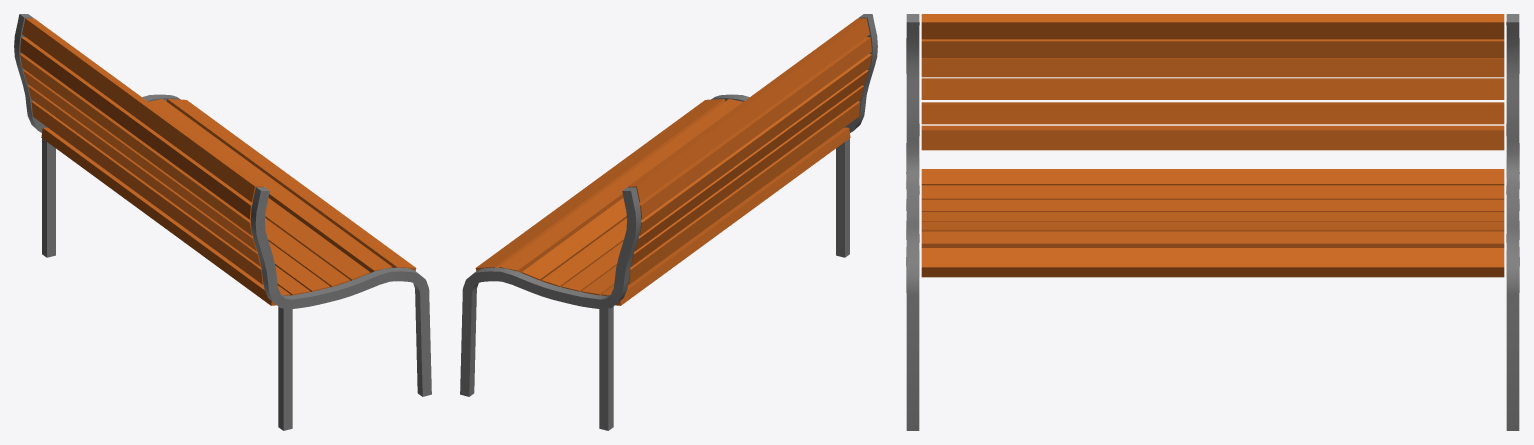
Rendered from P_Bench.dae.
3 renders of one model, left to right at view 1: azimuth 30°, elevation 25°; view 2: azimuth 150°, elevation 25°; view 3: azimuth 270°, elevation 25°, orthographic. The views are drawn at different scales.
Visible parts, largest first — view 1: Bench; view 2: Bench; view 3: Bench.
Part boxes in pixels (bbox=[...]): Bench: bbox=[14, 14, 431, 430]; Bench: bbox=[460, 14, 877, 430]; Bench: bbox=[906, 14, 1519, 430].
Bounding box in the file's own units: 0.8436 × 2.01 × 1.12.
